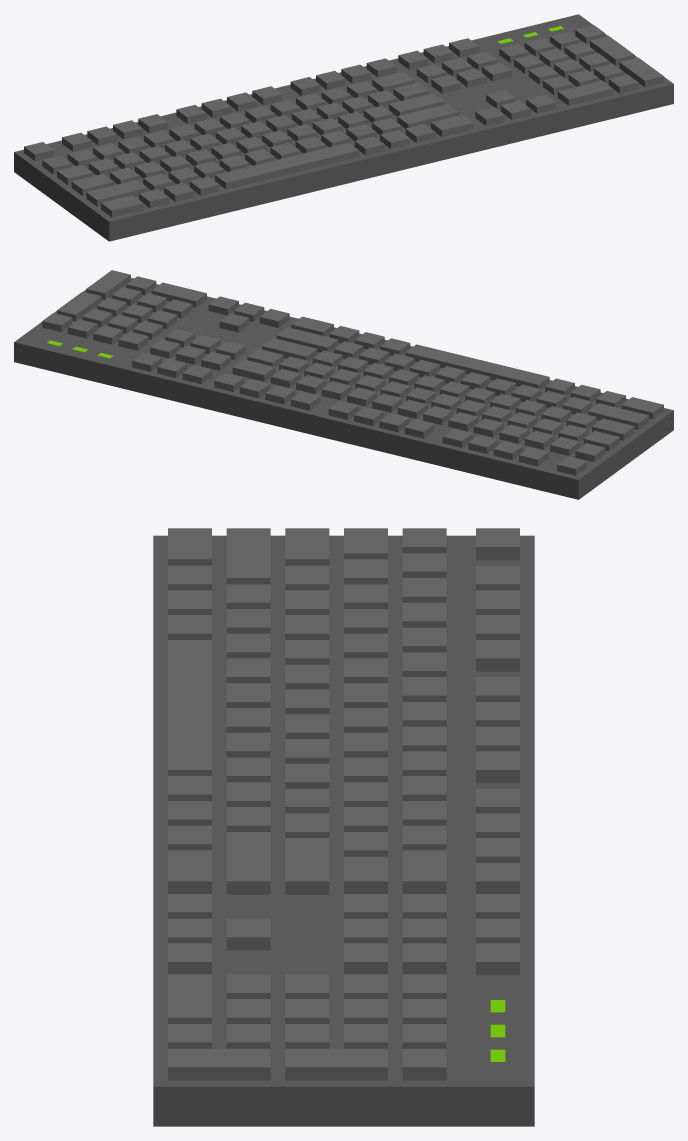
File: Keyboard1.fbx
3 renders of one model, top to bottom at view 1: azimuth 30°, elevation 25°; view 2: azimuth 150°, elevation 25°; view 3: azimuth 270°, elevation 25°, orthographic. The views are drawn at different scales.
Parts seen in each view (by area): view 1: Keyboard1; view 2: Keyboard1; view 3: Keyboard1.
Part boxes in pixels (x1=…): Keyboard1: x1=14, y1=14, x2=673, y2=241; Keyboard1: x1=14, y1=270, x2=673, y2=499; Keyboard1: x1=153, y1=528, x2=534, y2=1126.
Bounding box in the file's own units: 8.9 × 0.4 × 2.6.
